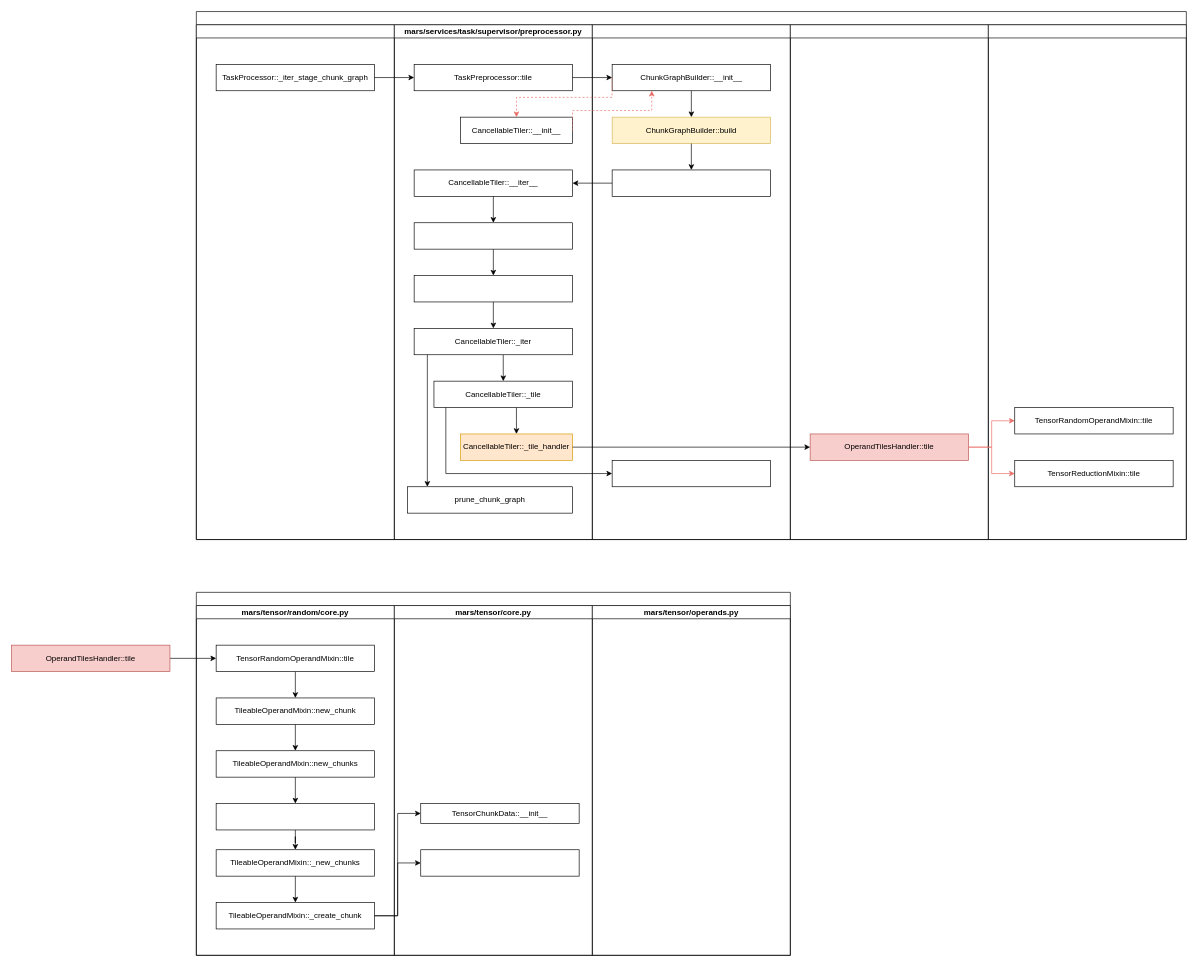
The diagram is 1198 pixels wide and 967 high, and some of its shapes have lost their labels. Each missing label, with the box of its shape:
CancellableTiler::_iter_with_check: (413, 222, 573, 249)
CancellableTiler::_iter_without_check: (413, 275, 573, 302)
ChunkGraphBuilder::_add_nodes: (611, 460, 771, 487)
ChunkGraphBuilder::_build: (611, 169, 771, 196)
Generate a ChunkGraph From a TileableGraph: (196, 11, 1186, 540)
mars/core/entity/tileables.py: (790, 24, 988, 540)
mars/core/graph/builder/chunk.py: (592, 24, 790, 540)
mars/services/task/supervisor/processor.py: (196, 24, 394, 540)
op: (988, 24, 1186, 540)
TensorChunk::__init__: (420, 849, 579, 876)
TensorData[op=TensorRandint] tile details: (196, 592, 790, 955)
TensorRandomOperandMixin::_new_chunks: (215, 803, 375, 830)
